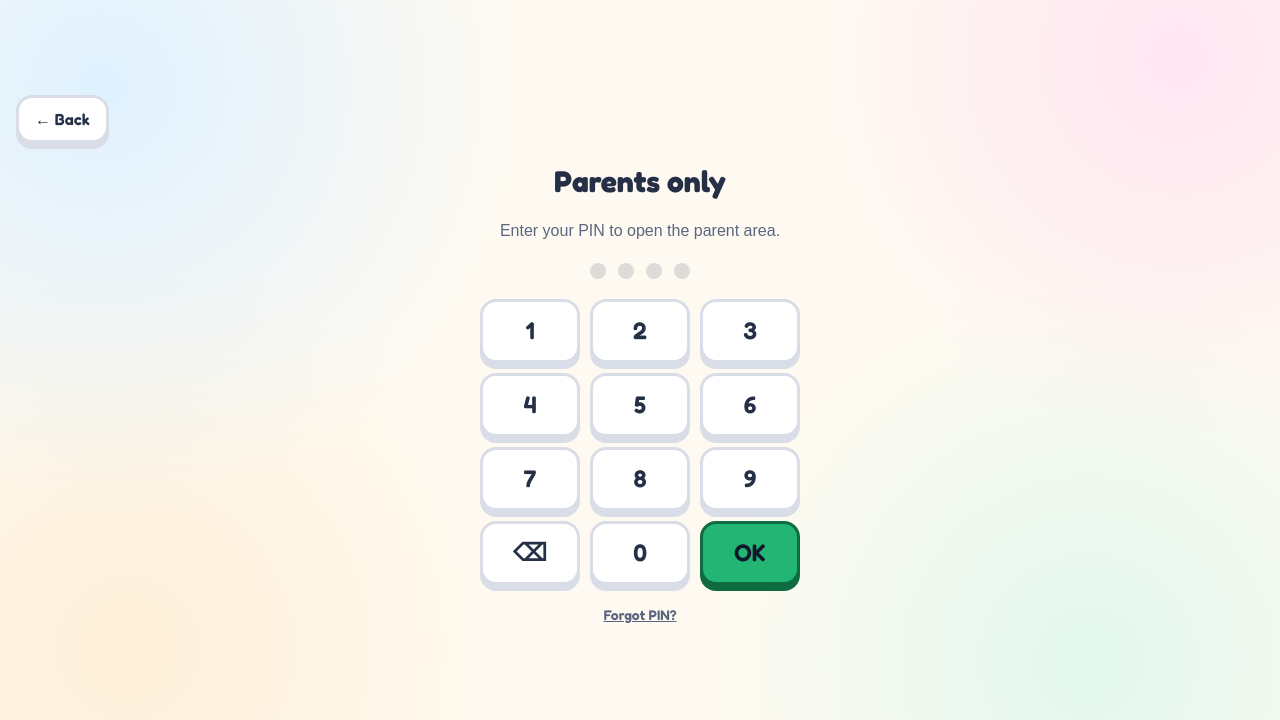
it: parent Gate › lets a parent who forgot the PIN reset it by answering the multiplication
Click the button "Forgot PIN?": (640, 615) 604,605 -> 676,625
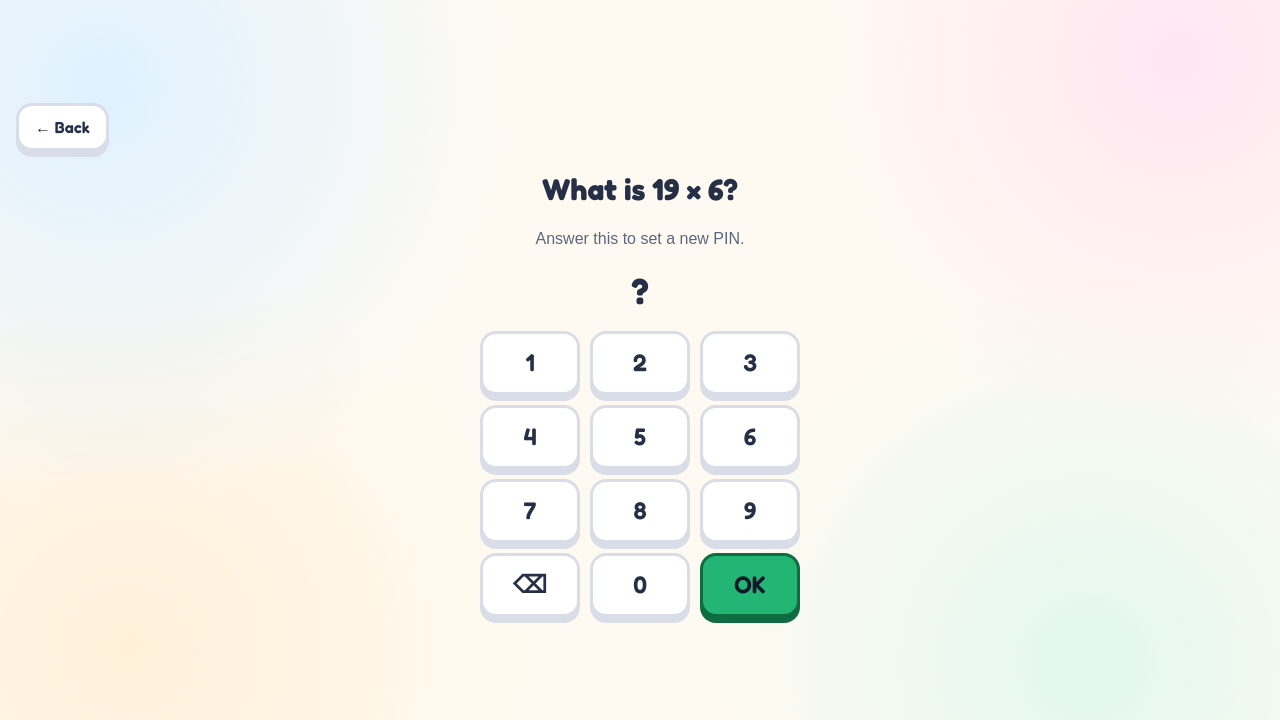
Click the button "1": (530, 363) 480,331 -> 580,395
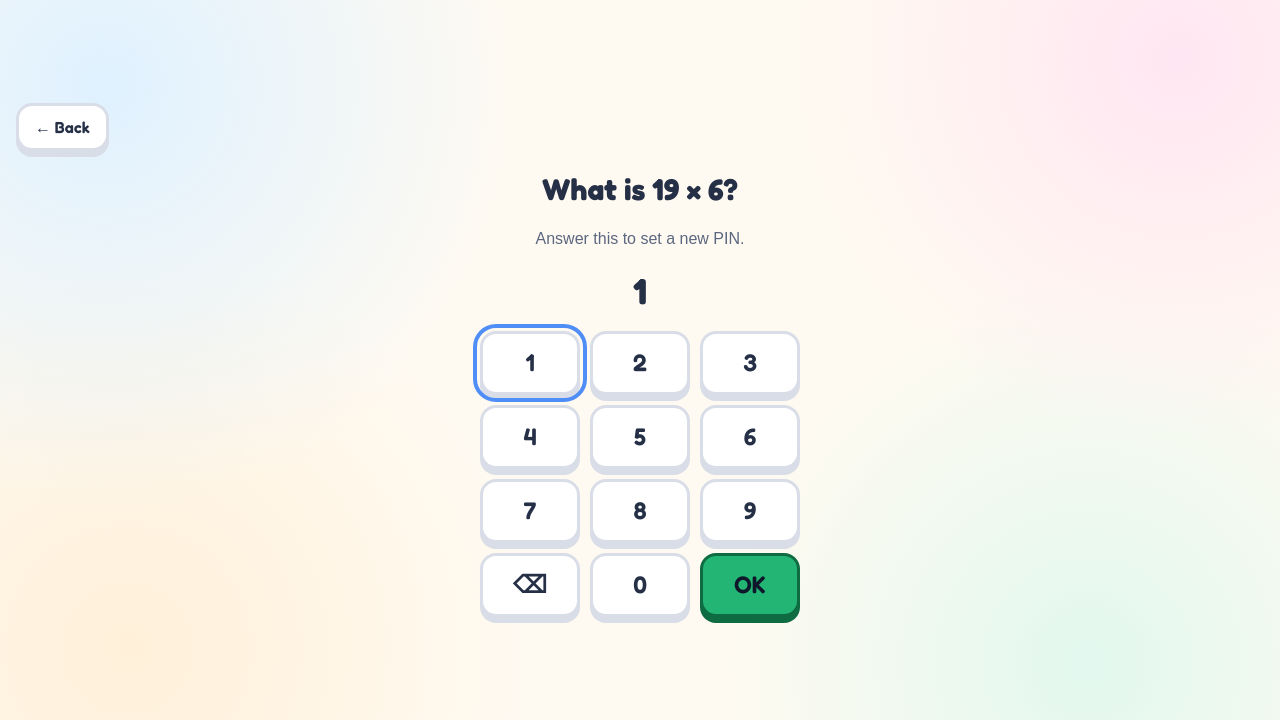
Click the button "1": (530, 363) 480,331 -> 580,395
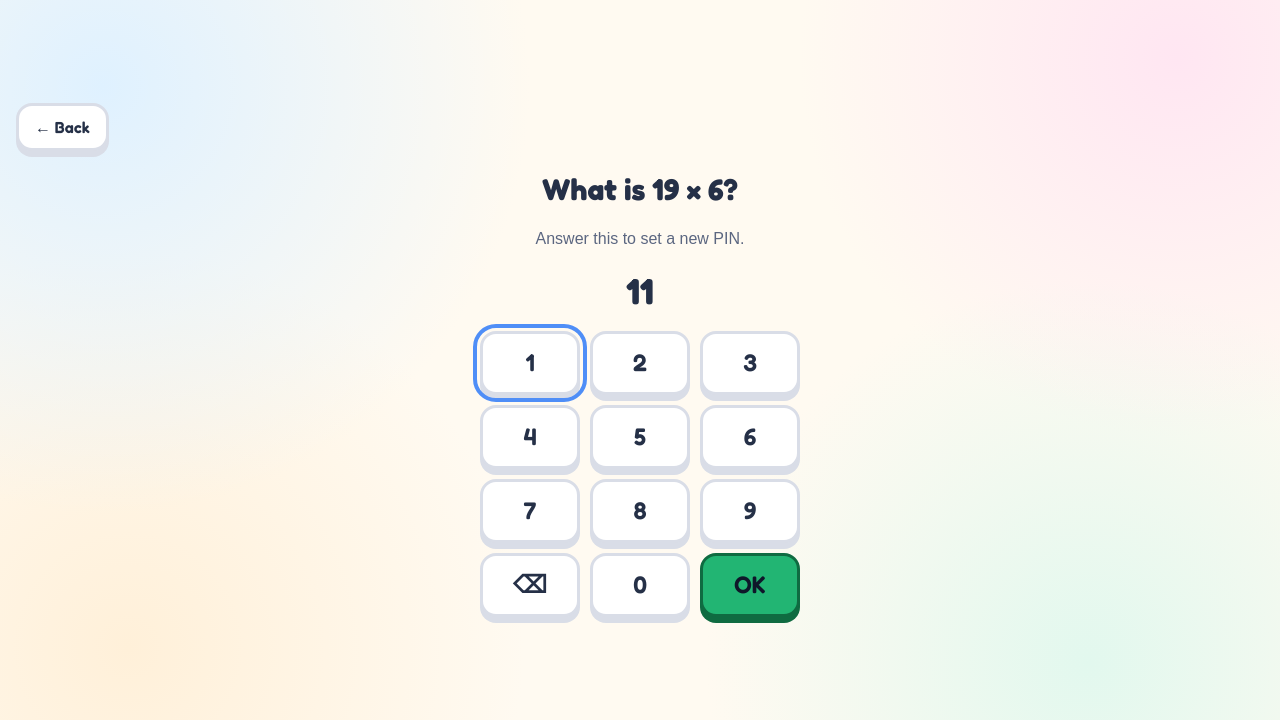
Click the button "4": (530, 437) 480,405 -> 580,469
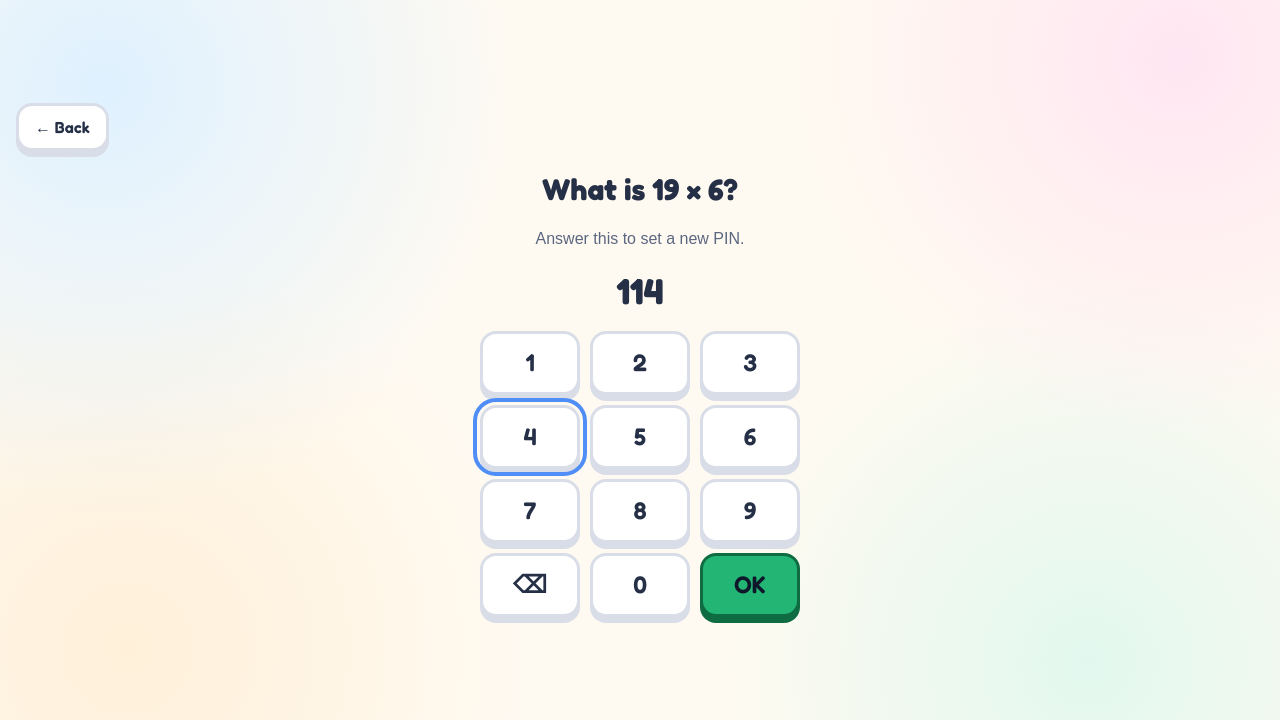
Click the button "OK": (750, 585) 700,553 -> 800,617
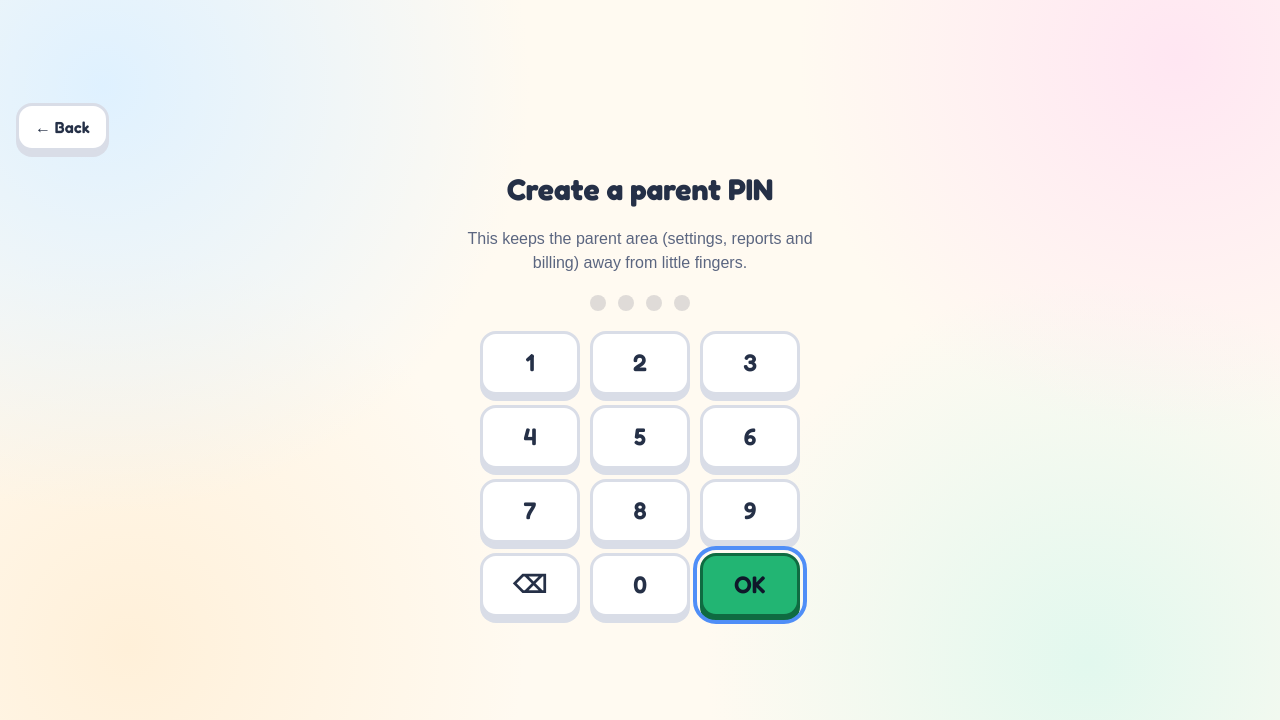
Expected: the heading "Create a parent PIN" is shown, 507,171 -> 773,207
